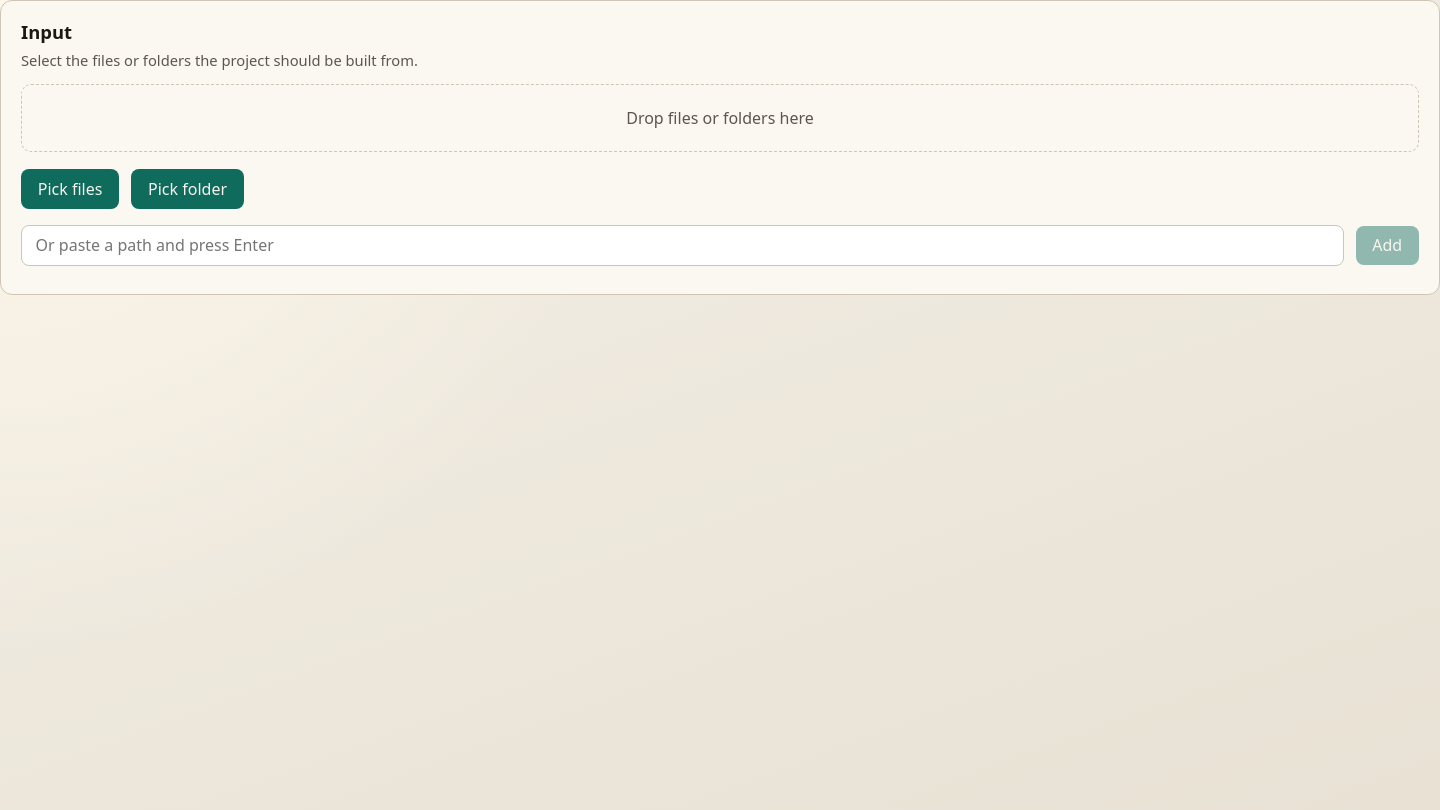
it: IntakePanel › clears all paths and drops preflight summary
In the field with test id "intake-path-input": (682, 245) [21,224,1344,266], type "C:\\fixture\\notes-a.md"
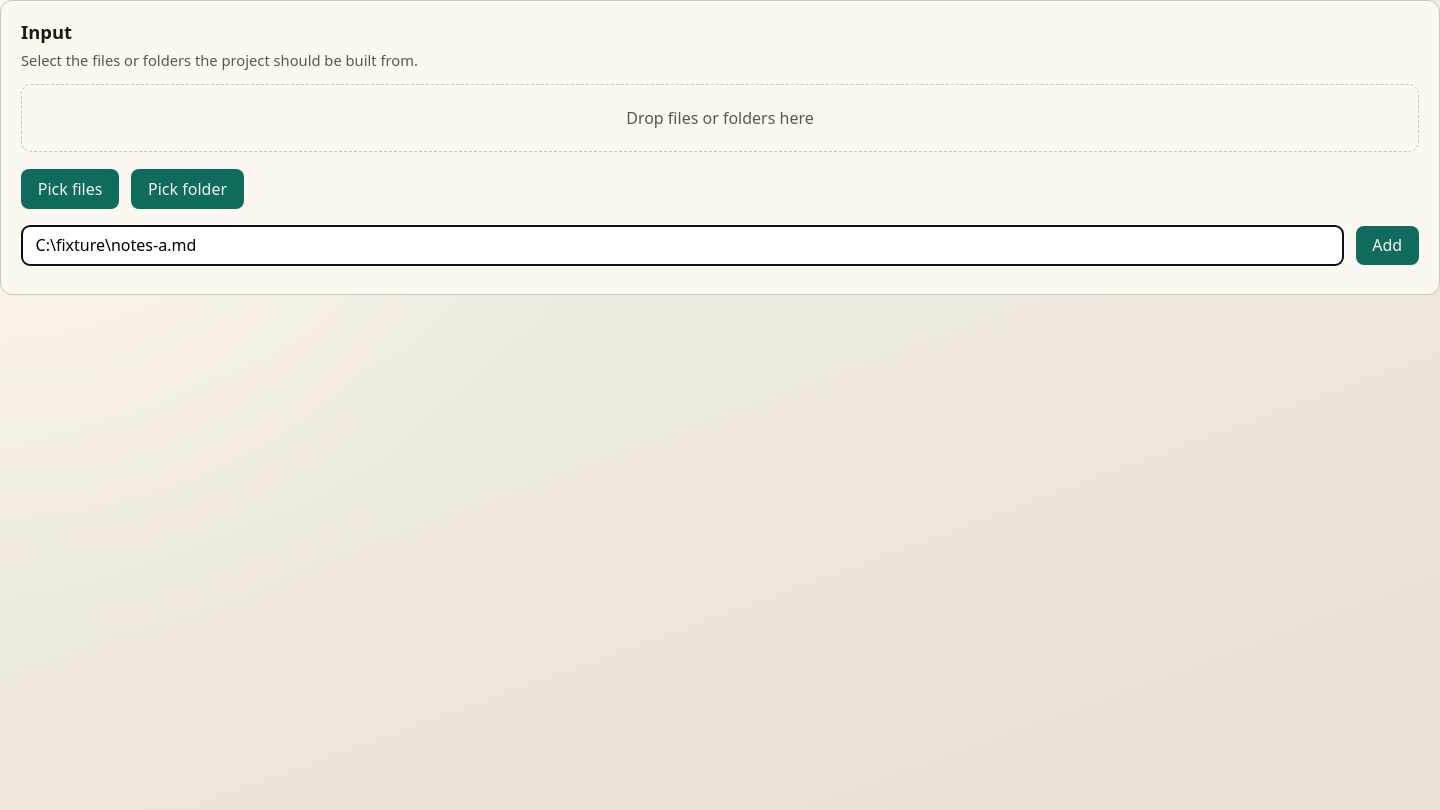
Click the button "Add": (1387, 245) [1356,226,1419,265]
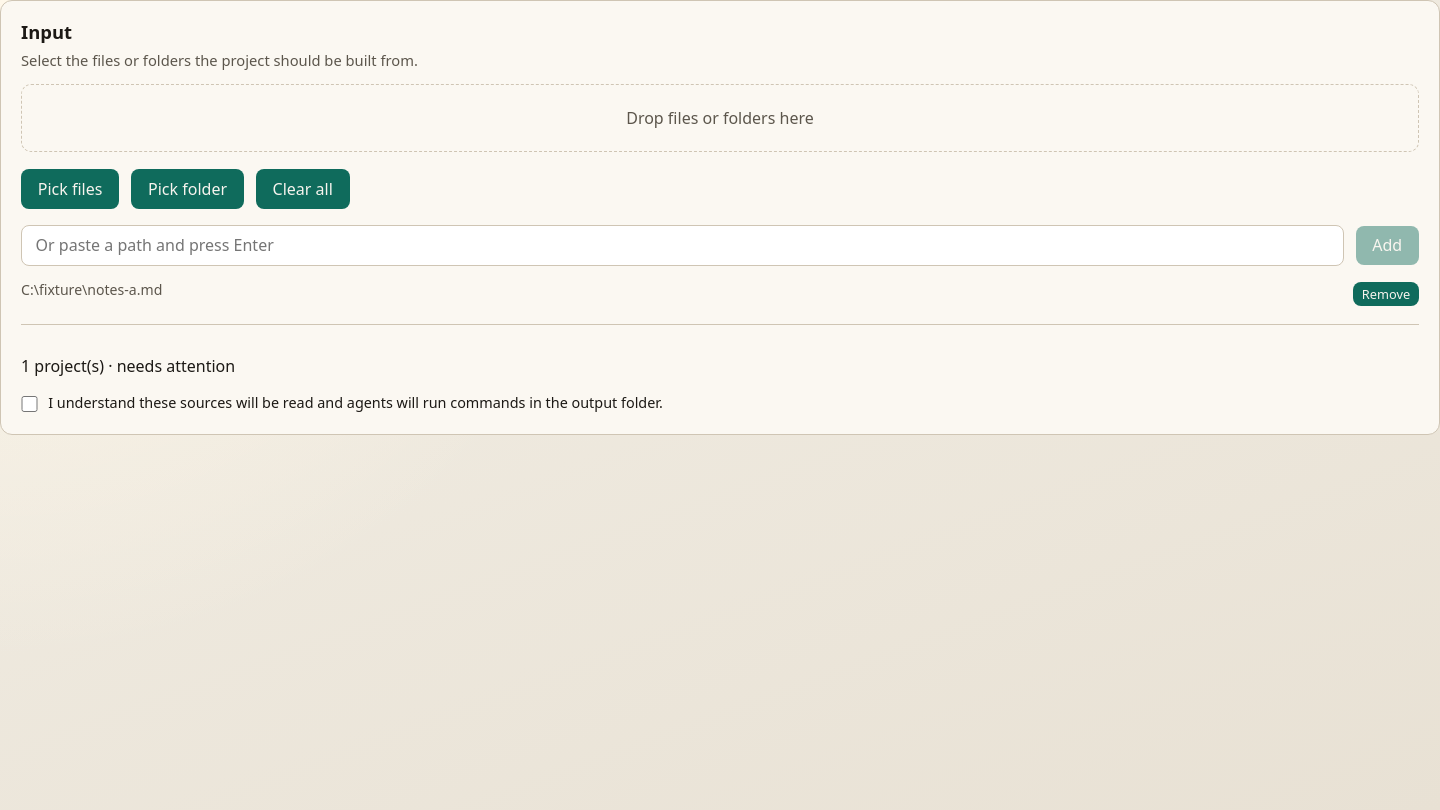
Now the element with test id "preflight-summary" is shown, box [21,324,1419,412]
Click the button with test id "intake-clear-all": (303, 189) [256,169,350,209]
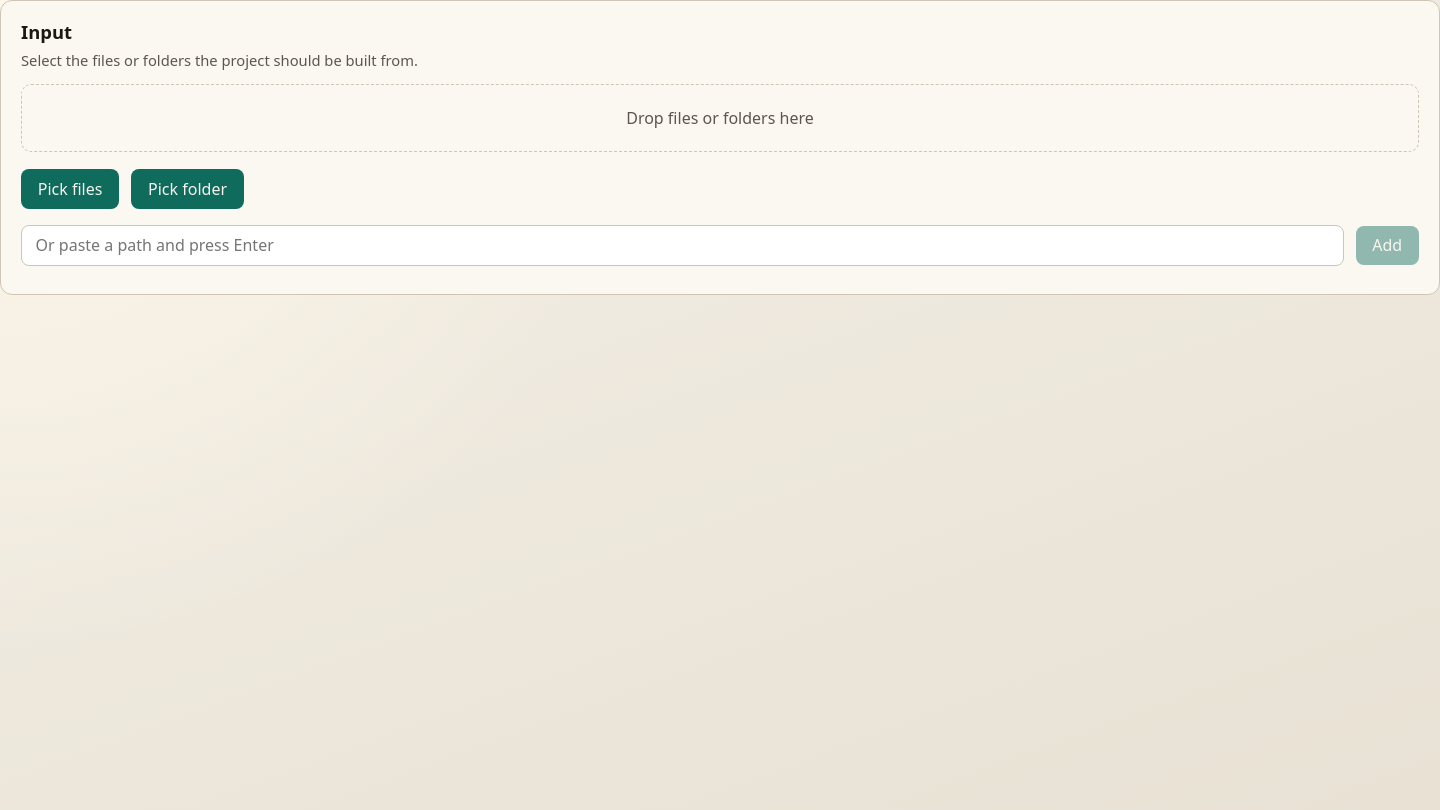
Now the list with test id "intake-paths" is gone
Now the element with test id "preflight-summary" is gone
Now the button with test id "intake-clear-all" is gone
